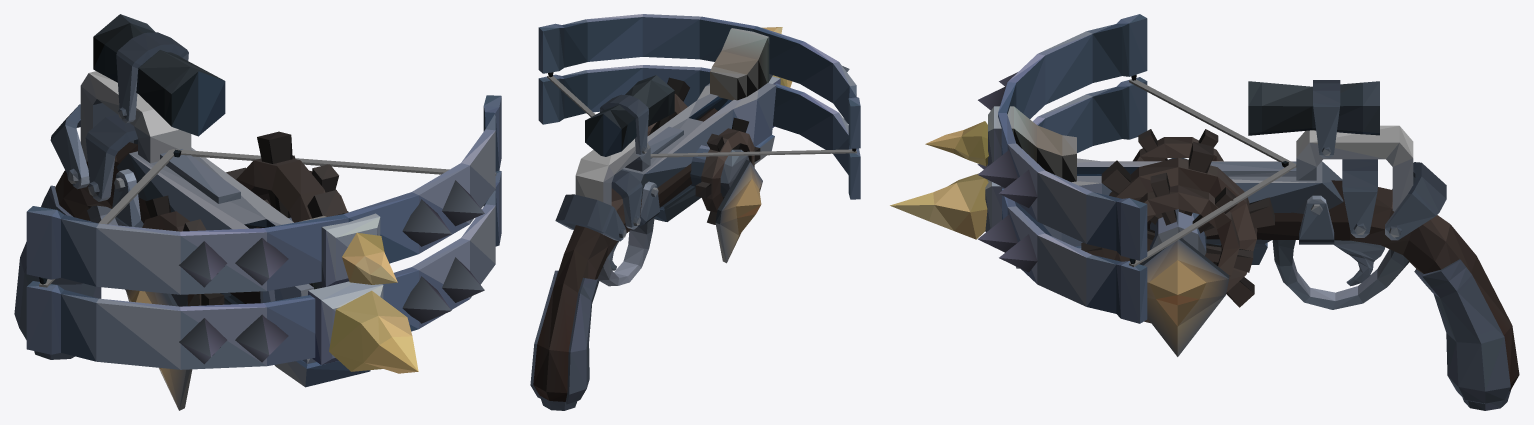
File: weapon_crossbow_silver_5.fbx
The picture shows the model from 3 angles, left to right: view 1: azimuth 30°, elevation 25°; view 2: azimuth 150°, elevation 25°; view 3: azimuth 270°, elevation 25°; orthographic projection. The views are drawn at different scales.
Visible parts, largest first — view 1: weapon_crossbow_silver_5; view 2: weapon_crossbow_silver_5; view 3: weapon_crossbow_silver_5.
Boxes of the visible parts, bbox=[...] form: weapon_crossbow_silver_5: bbox=[14, 14, 501, 410]; weapon_crossbow_silver_5: bbox=[530, 14, 860, 410]; weapon_crossbow_silver_5: bbox=[890, 14, 1519, 410].
Bounding box in the file's own units: 0.8673 × 0.6664 × 1.19.
